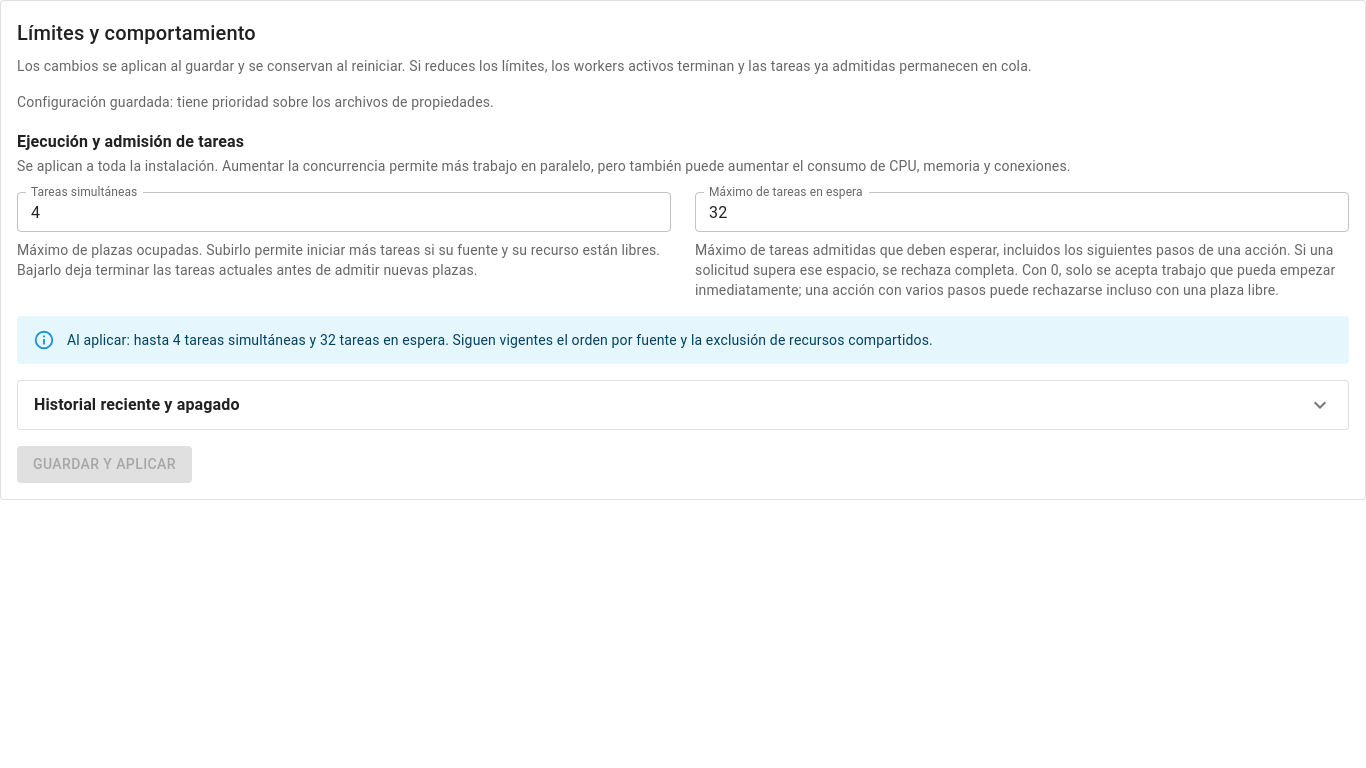
Scenario: Runtime configuration effects › explains zero waiting capacity and prevents invalid values being saved
The image size is (1366, 768).
Expected: the text "Con 0, solo se acepta trabajo que pueda empezar inmediatamente" is shown, [695, 242, 1335, 298]
Replace the text in the number field labelled "Máximo de tareas en espera" with "-1" at (1022, 212), box [695, 192, 1349, 232]
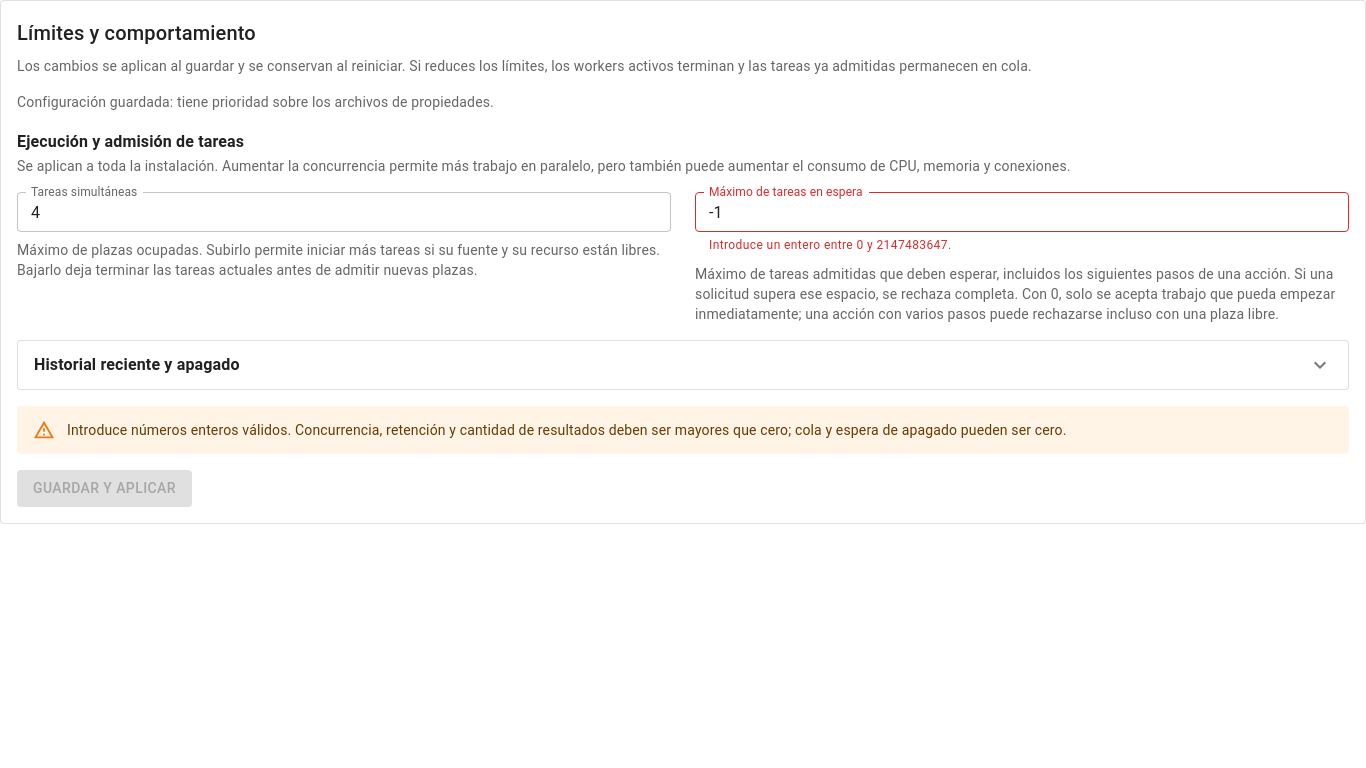
Expected: the button "Guardar y aplicar" is disabled, [17, 470, 192, 506]
Now the text "Introduce un entero entre 0 y 2147483647." is shown, box [709, 238, 952, 252]
